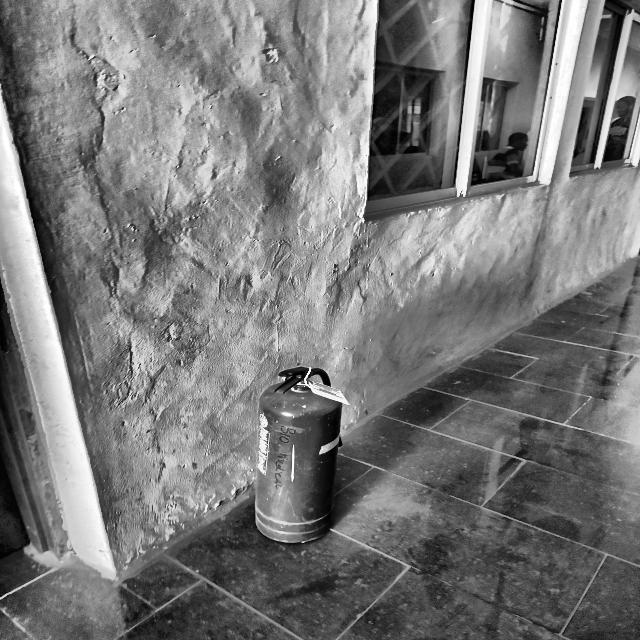fire hydrant: (216, 340, 376, 541)
